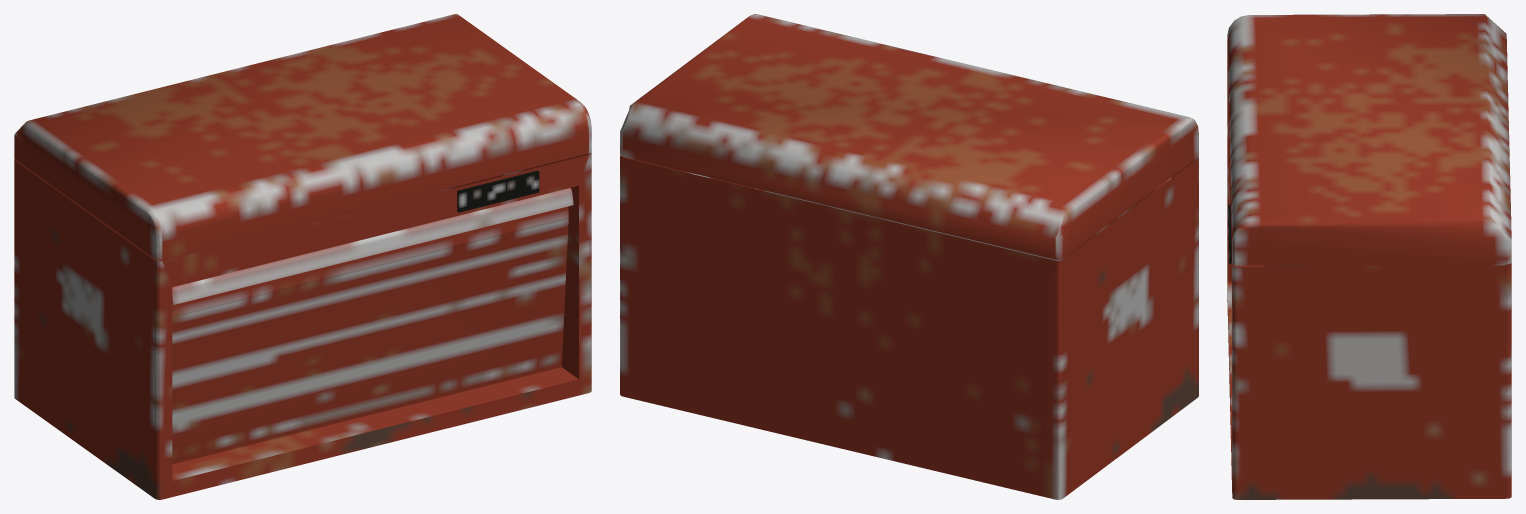
File: BoxLittleWorkBench.fbx
3 views of the same model, side by side, from view 1: azimuth 30°, elevation 25°; view 2: azimuth 150°, elevation 25°; view 3: azimuth 270°, elevation 25° (orthographic). The views are drawn at different scales.
Visible parts, largest first — view 1: WorkBenchBox1; view 2: WorkBenchBox1; view 3: WorkBenchBox1.
Part boxes in pixels (<box>): WorkBenchBox1: <box>14,14,591,499</box>; WorkBenchBox1: <box>620,14,1198,499</box>; WorkBenchBox1: <box>1227,14,1511,499</box>.
Bounding box in the file's own units: 0.9822 × 0.6028 × 0.5606.
